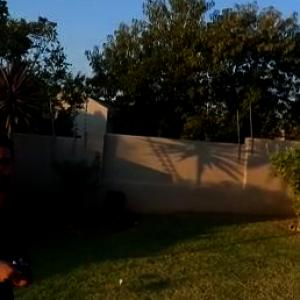follow: (0, 127, 40, 299)
